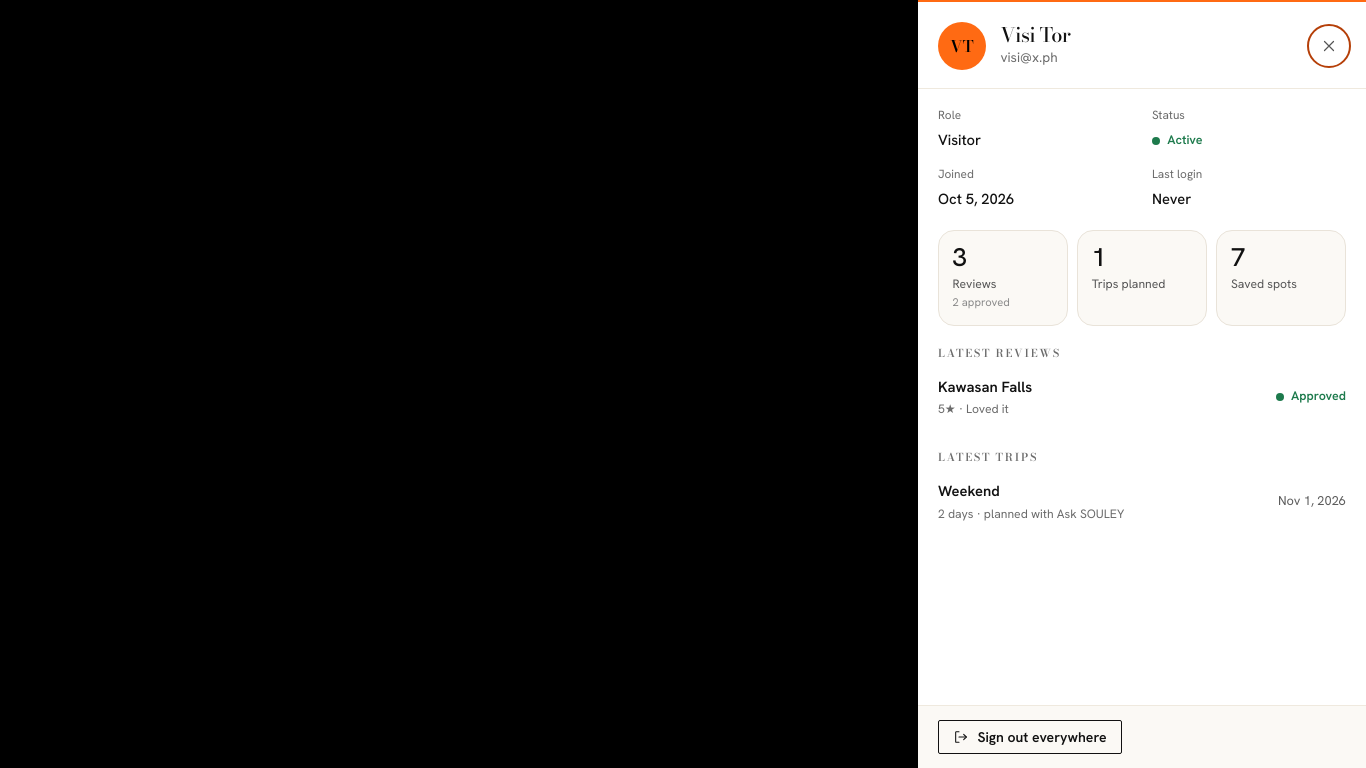
Test case: UserPanel › shows a problem from the server instead of failing silently
The width and height of the screenshot is (1366, 768).
Click the button "Sign out everywhere": x=1030, y=737 [938,720,1122,754]
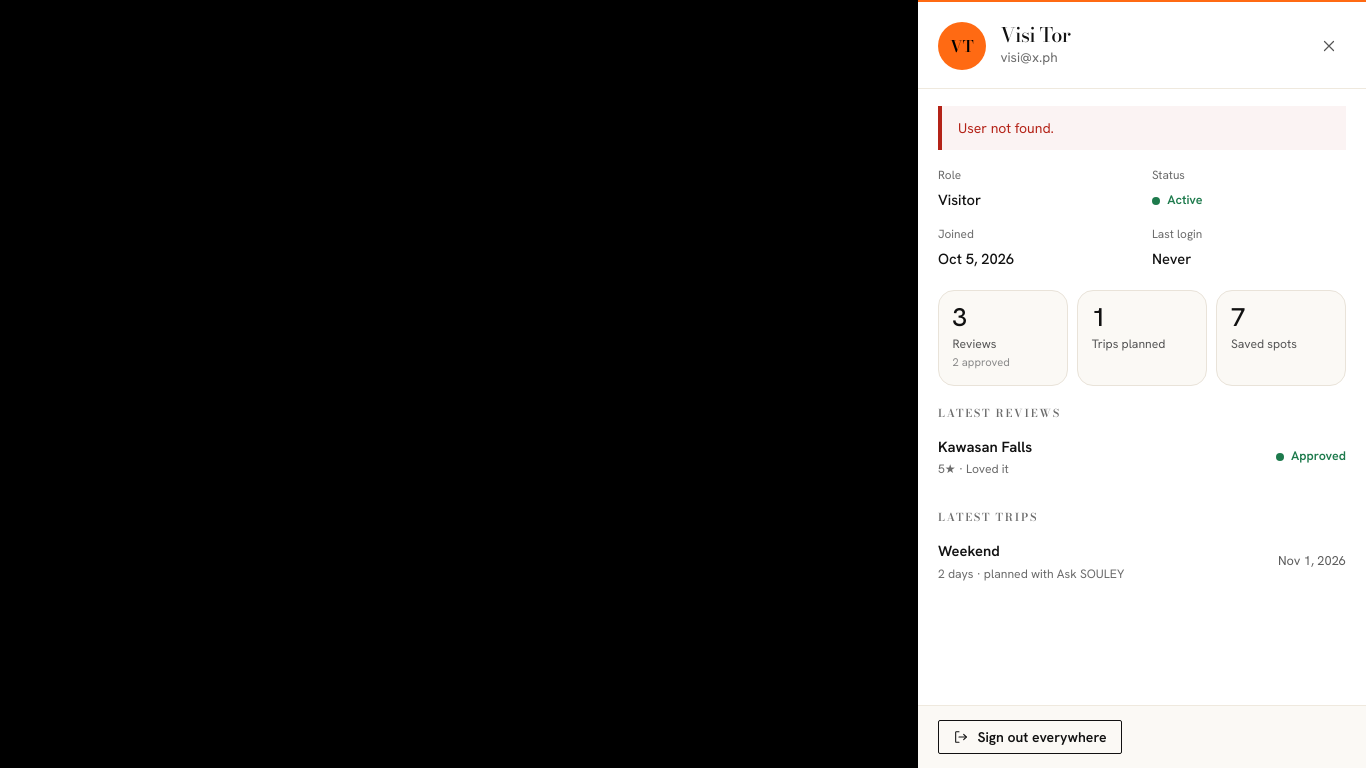
Expected: the text "User not found." is shown, [938,106,1346,150]
